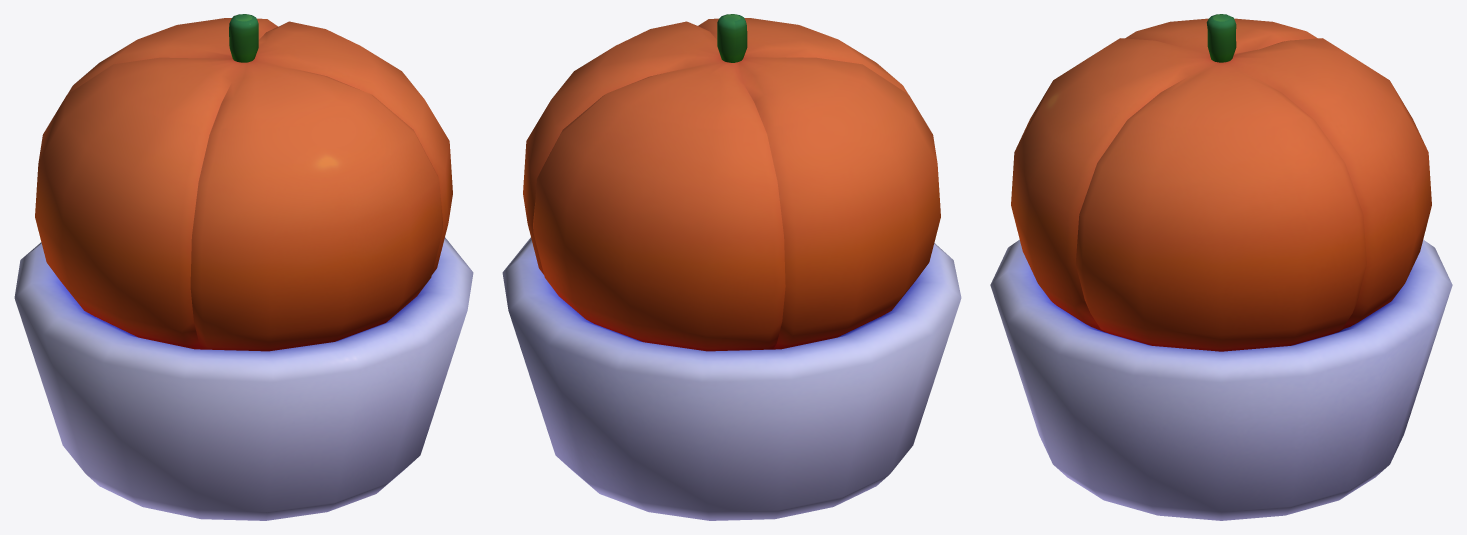
The model's file is Pumkin.fbx.
The picture shows the model from 3 angles, left to right: view 1: azimuth 30°, elevation 25°; view 2: azimuth 150°, elevation 25°; view 3: azimuth 270°, elevation 25°; orthographic projection.
Visible parts, largest first — view 1: Cattus; view 2: Cattus; view 3: Cattus.
Part boxes in pixels (x1,y1,x2,y2): Cattus: (14,14,473,520); Cattus: (502,14,961,520); Cattus: (990,14,1452,520).
Size of the model in its own units: 24.54 by 25.34 by 24.54.
1 material, 1 textured.
